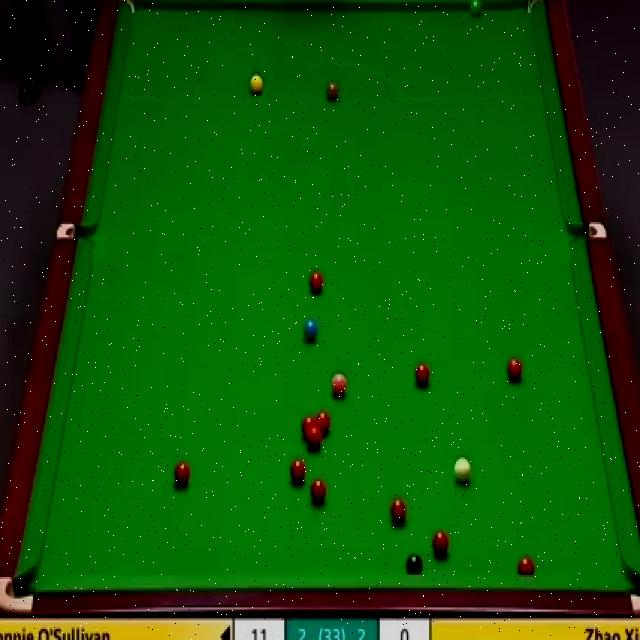black-ball: (403, 553, 422, 577)
blue-ball: (301, 318, 318, 345)
brown-ball: (324, 78, 339, 104)
green-ball: (468, 0, 484, 17)
pink-ball: (331, 368, 348, 398)
red-ball: (414, 360, 432, 391), (174, 460, 192, 490), (309, 478, 327, 508), (431, 530, 448, 559), (291, 456, 308, 484), (506, 356, 523, 384), (308, 272, 326, 298), (390, 497, 407, 523), (316, 411, 331, 438), (518, 554, 535, 576), (302, 416, 316, 438), (308, 429, 322, 450)
white-ball: (453, 455, 472, 486)
yellow-ball: (248, 73, 263, 95)
